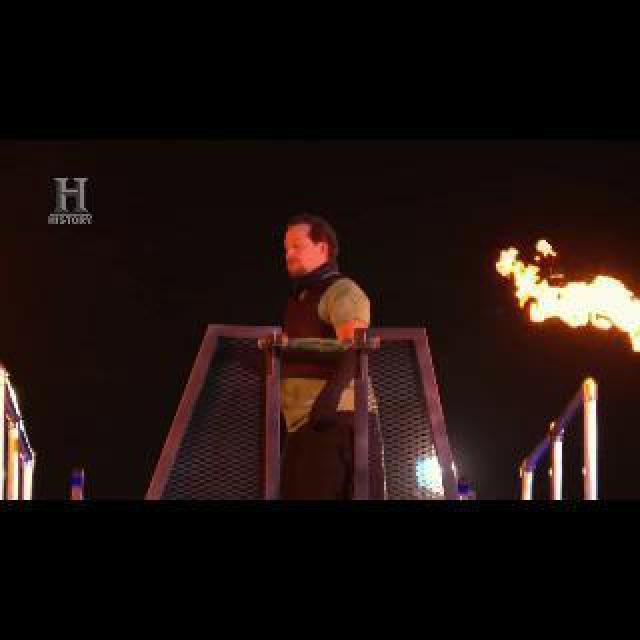fire: (494, 230, 638, 352)
